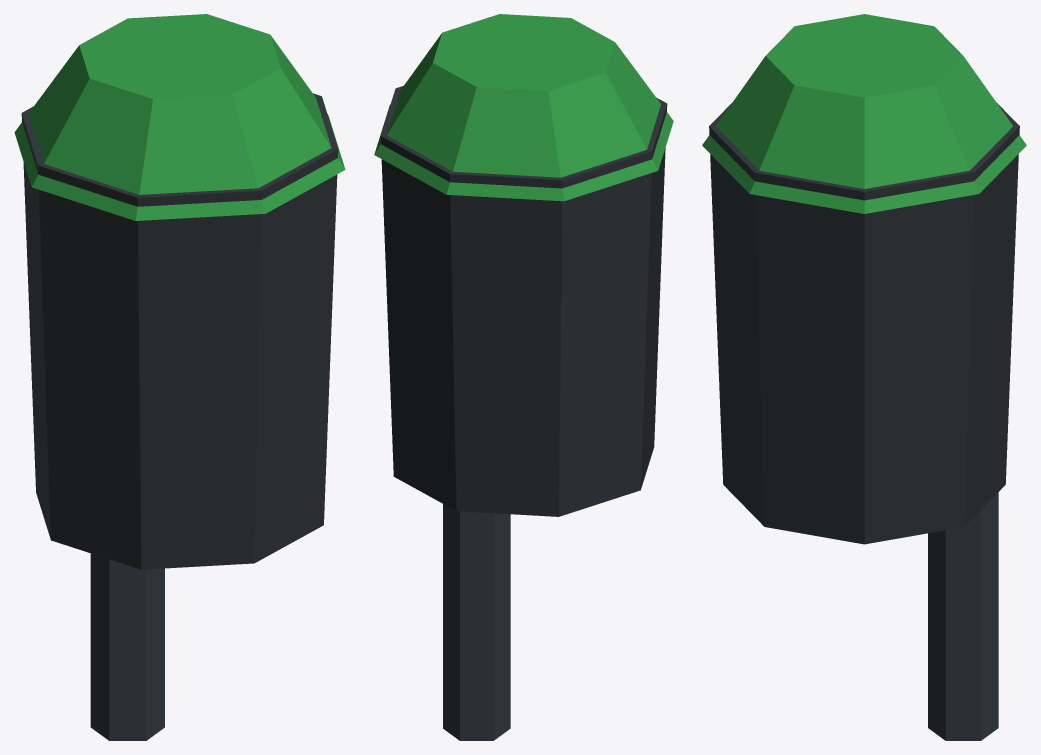
The model's file is waste-bin-lod0.glb.
The picture shows the model from 3 angles, left to right: view 1: azimuth 30°, elevation 25°; view 2: azimuth 150°, elevation 25°; view 3: azimuth 270°, elevation 25°; orthographic projection. The views are drawn at different scales.
Visible parts, largest first — view 1: waste-bin-lod0; view 2: waste-bin-lod0; view 3: waste-bin-lod0.
Part boxes in pixels (<box>): waste-bin-lod0: <box>14,14,345,740</box>; waste-bin-lod0: <box>374,14,673,740</box>; waste-bin-lod0: <box>702,14,1026,740</box>.
Bounding box in the file's own units: 0.46 × 1.05 × 0.46.
Materials: 1 (1 with a texture image).
